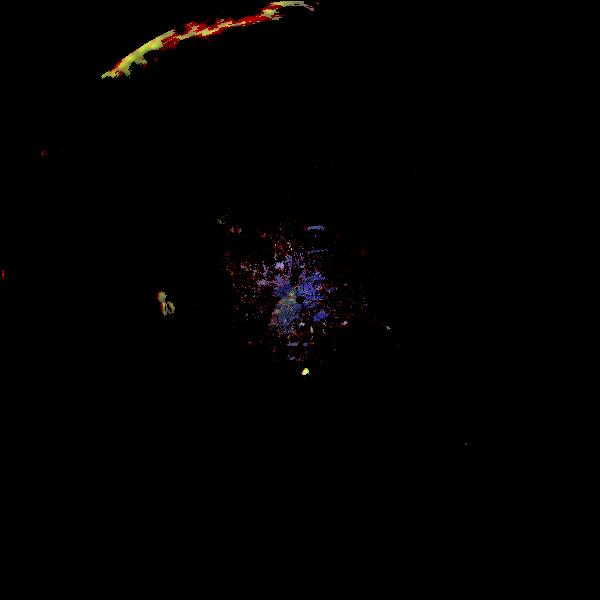roost: (298, 365, 313, 380)
